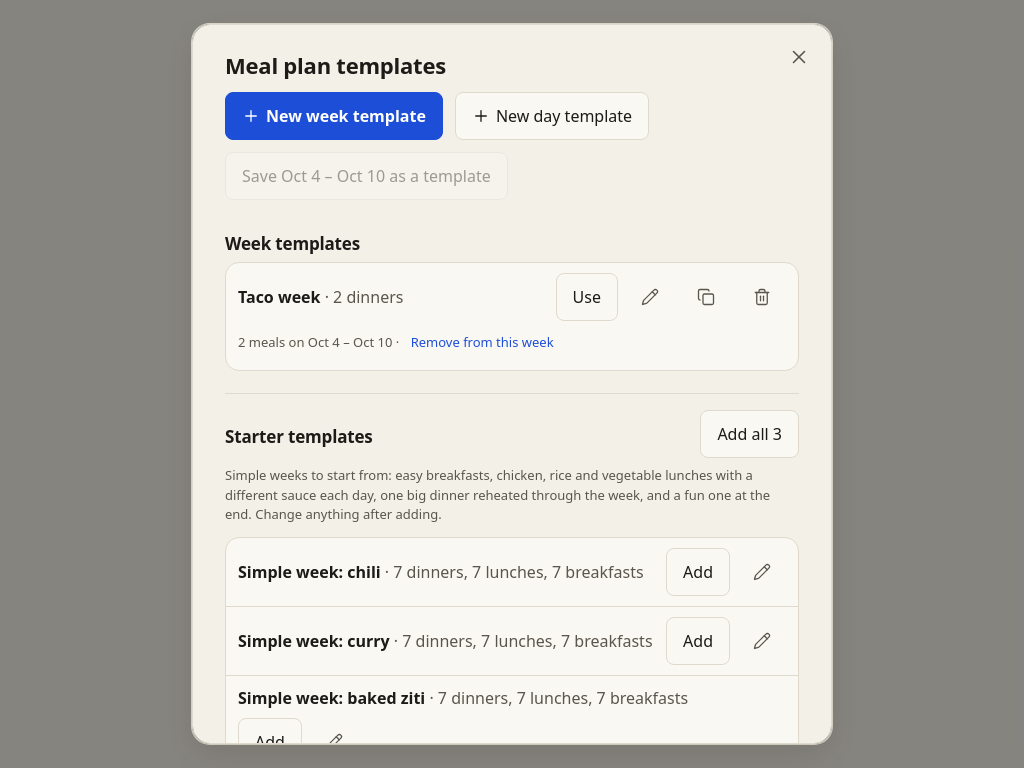
Scenario: templates on the week, and starters to update › says how many of a template’s meals are on the week and takes them off
Expected: the text "2 meals on Oct 4 – Oct 10 · Remove from this week" is shown, [238,325,562,360]
Click the button "Remove from this week". click: (482, 343)
box: [403,325,562,360]
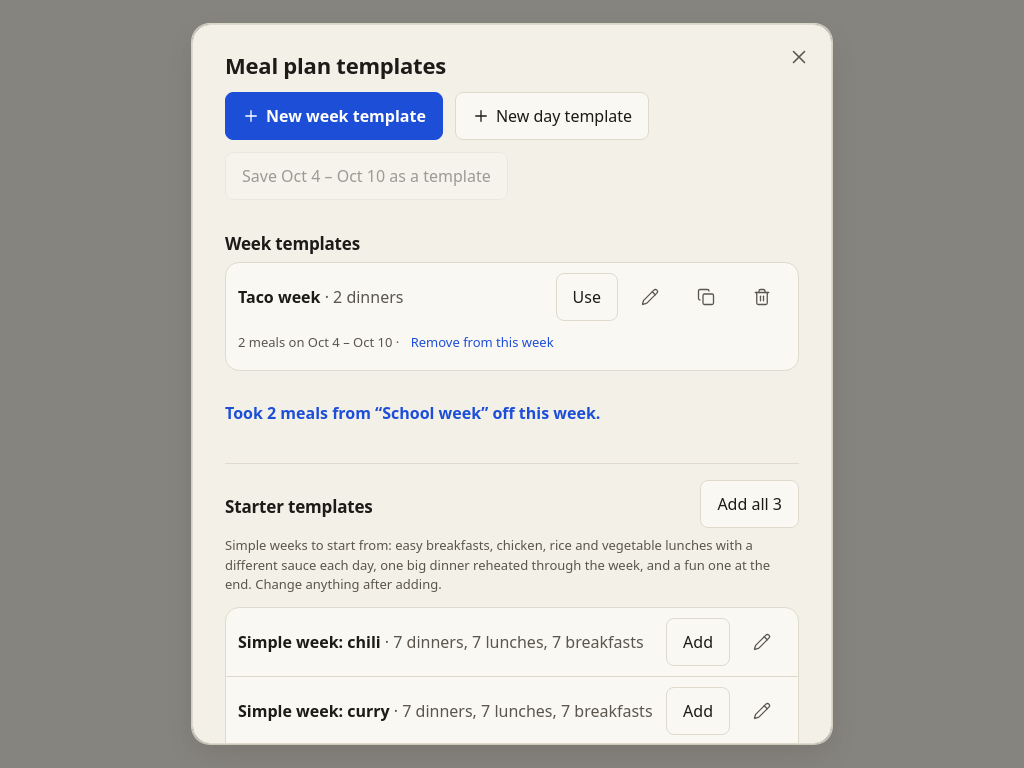
Result: the message reads "Took 2 meals from “School week” off this week." at [225,402,600,424]
